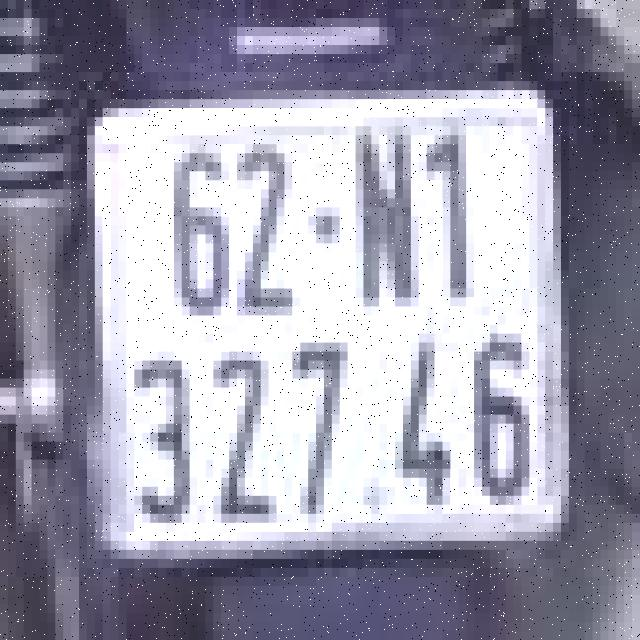1: (427, 126, 490, 307)
2: (210, 347, 280, 518), (233, 135, 296, 316)
3: (126, 347, 198, 527)
4: (395, 338, 458, 509)
6: (162, 144, 241, 325), (466, 329, 537, 509)
7: (288, 338, 359, 518)
N: (352, 126, 422, 316)
